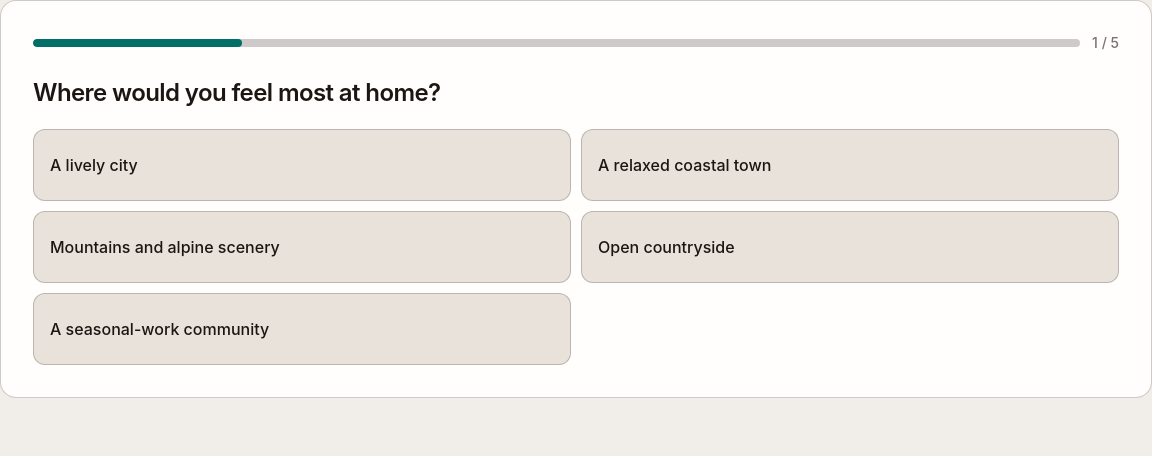
Test case: DestinationQuiz › walks through all 5 questions and shows a hardcoded destination result
Click the button "A lively city".
click(94, 165)  # box [33,129,571,201]
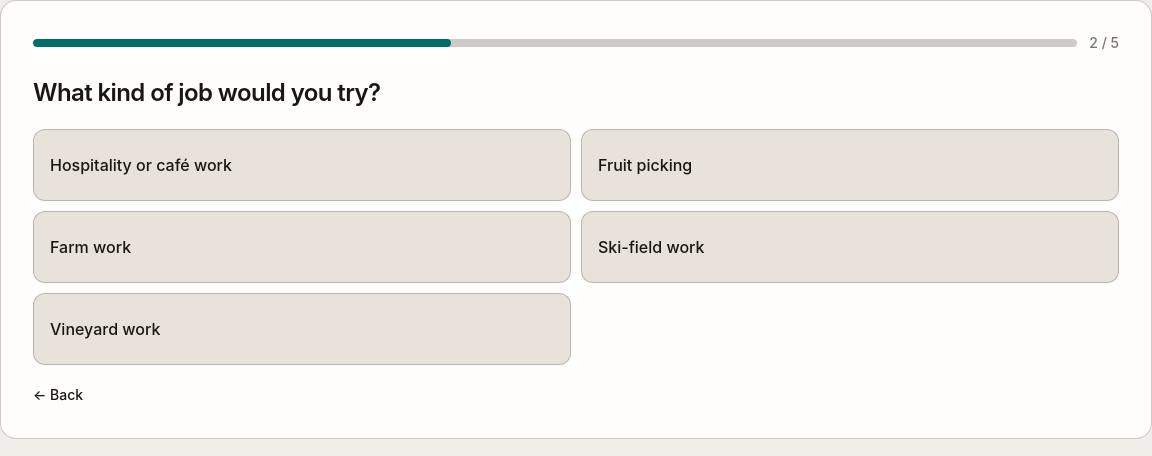
Click the button "Hospitality or café work".
click(141, 165)  # box [33,129,571,201]
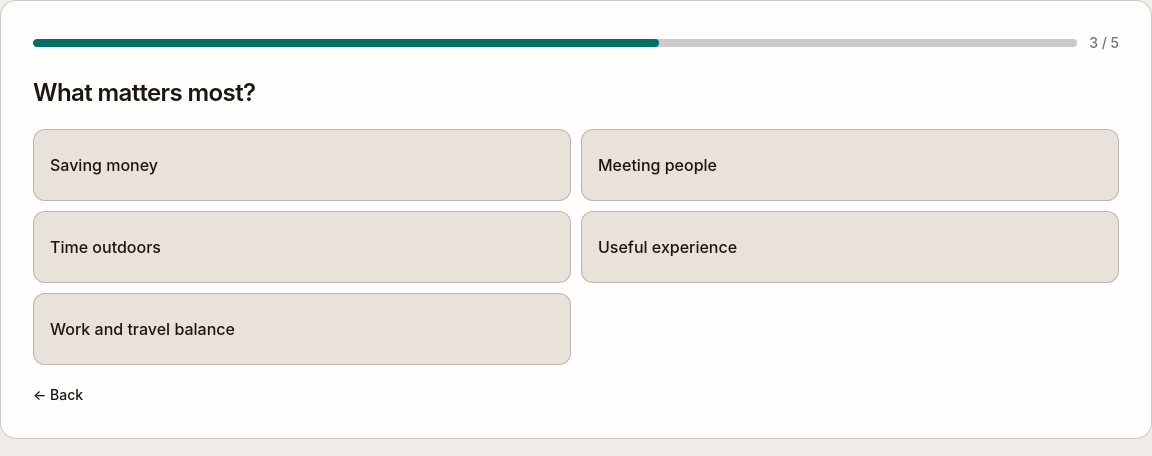
Click the button "Meeting people".
click(657, 165)  # box [581,129,1119,201]
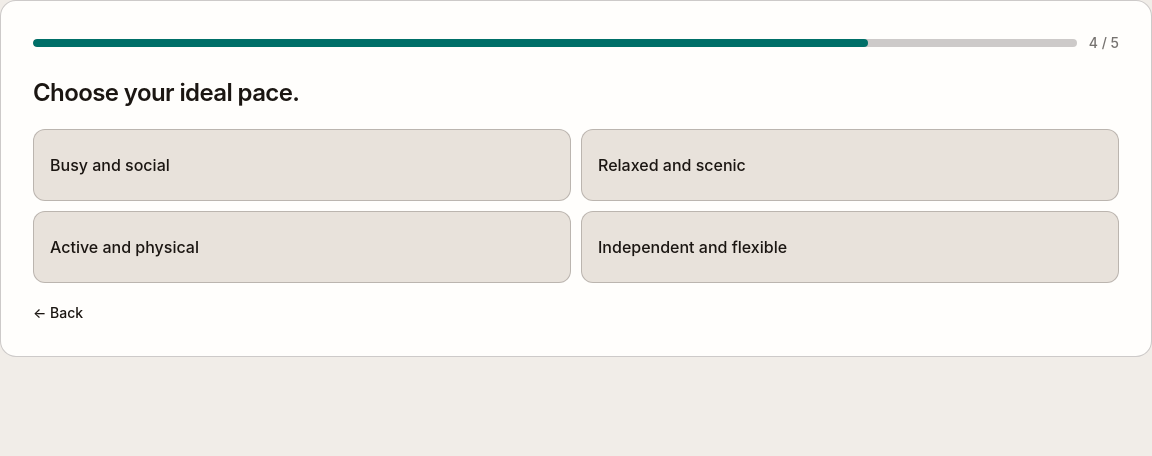
Click the button "Busy and social".
click(110, 165)  # box [33,129,571,201]
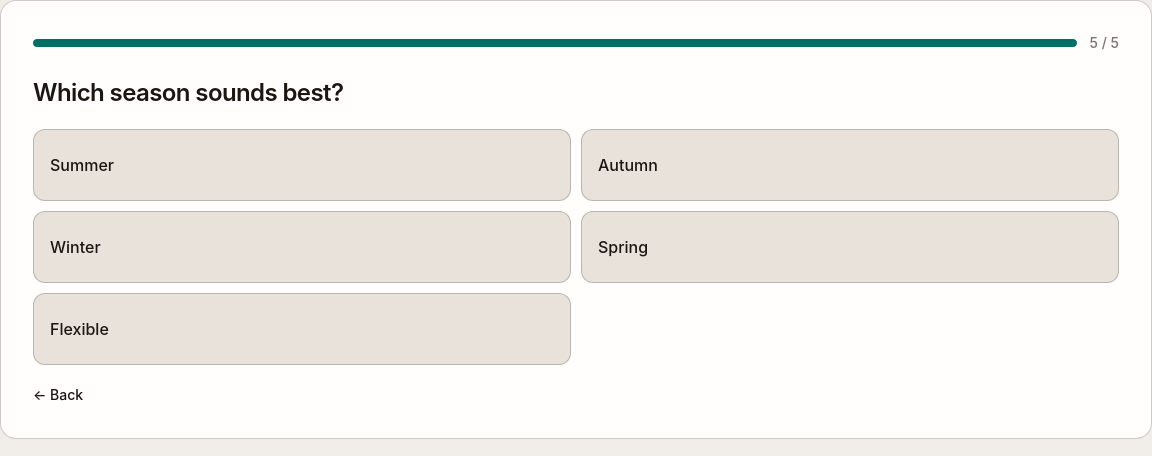
Click the button "Summer".
click(82, 165)  # box [33,129,571,201]
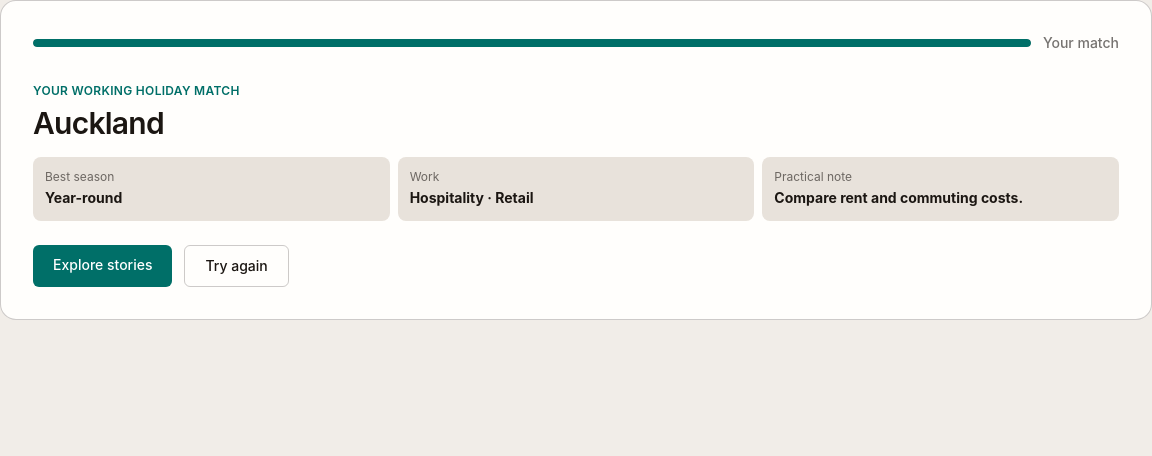
Expected: the text "Best season" is shown, [45,169,114,184]
Expected: the text "Work" is shown, [410,169,439,184]
Expected: the text "Practical note" is shown, [774,169,852,184]
